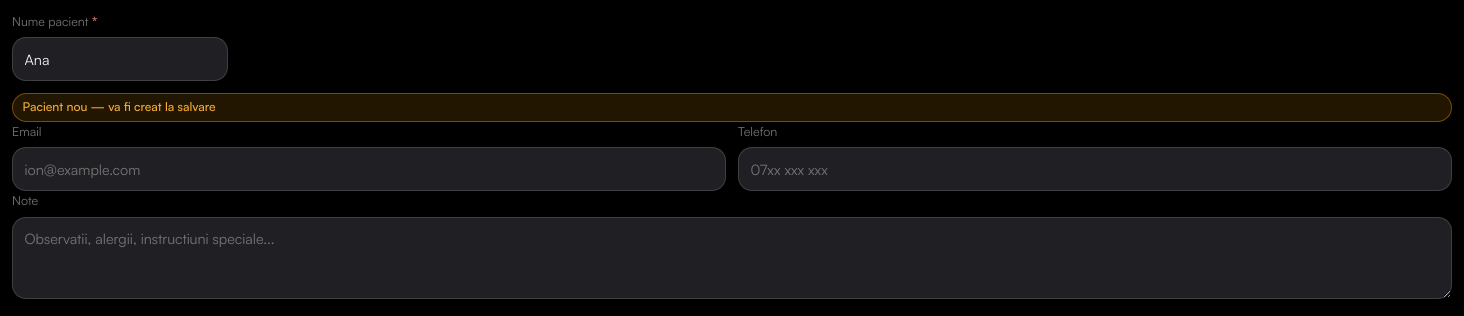
Test: ClientSection › hides the new-client badge while the next query is still resolving
Expected: the text "Pacient nou — va fi creat la salvare" is shown, [23,98,216,117]
Replace the text in the dropdown labelled "Nume pacient *" with "Anamaria". click: coordinates (120, 59)
box: [12,37,228,81]
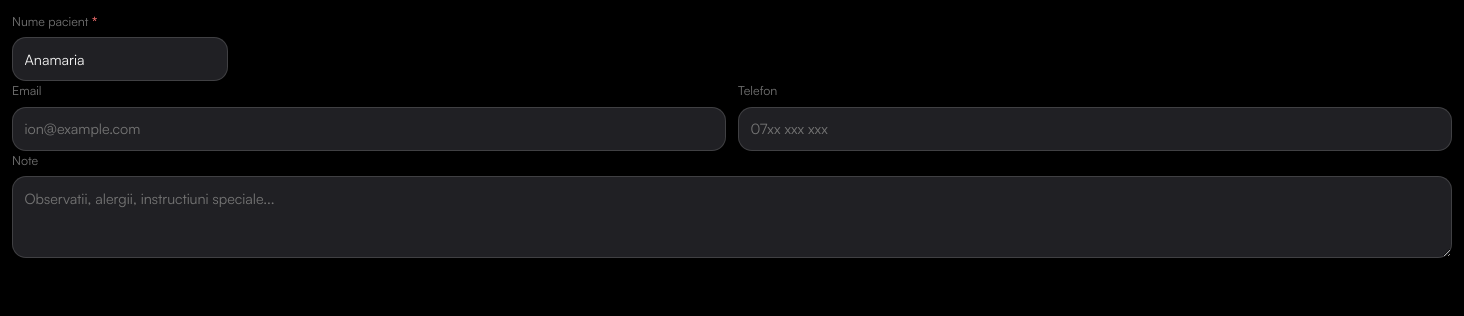
Now the text "Pacient nou — va fi creat la salvare" is gone
